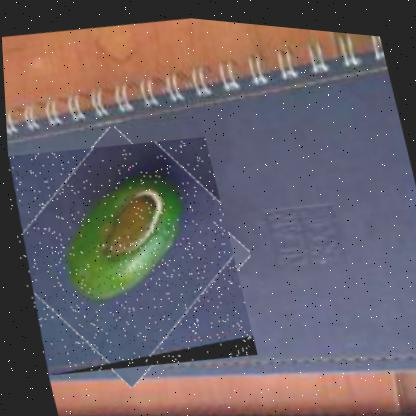orange_rotten: (5, 116, 256, 392)
